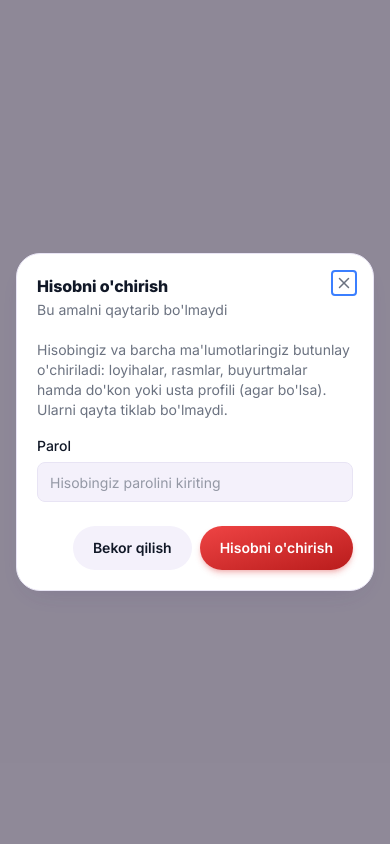
Test: DeleteAccountDialog › shows the server message and stays signed in when it fails
Click the button "Hisobni o'chirish" at point(276, 548), box [200,526,353,570]
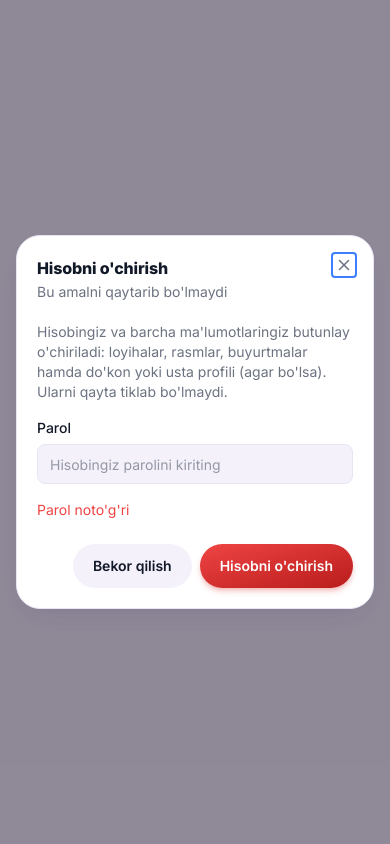
Check: the message reads "Parol noto'g'ri", box [37,501,129,518]
